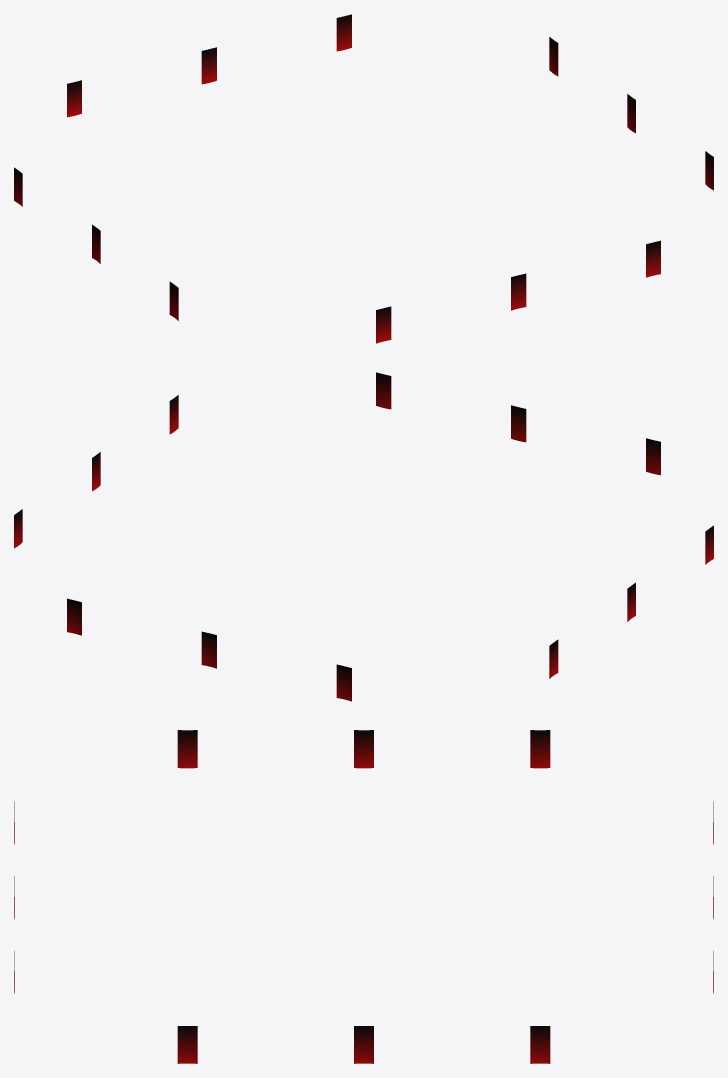
File: SM_Env_Banners.fbx
3 views of the same model, one above another, from view 1: azimuth 30°, elevation 25°; view 2: azimuth 150°, elevation 25°; view 3: azimuth 270°, elevation 25° (orthographic). The views are drawn at different scales.
Parts seen in each view (by area): view 1: SM_Env_Banners; view 2: SM_Env_Banners; view 3: SM_Env_Banners.
Part boxes in pixels (x1=…): SM_Env_Banners: x1=14, y1=14, x2=713, y2=343; SM_Env_Banners: x1=14, y1=372, x2=713, y2=701; SM_Env_Banners: x1=14, y1=730, x2=713, y2=1063.
Size of the model in its own units: 31.76 by 1.9 by 31.76.
